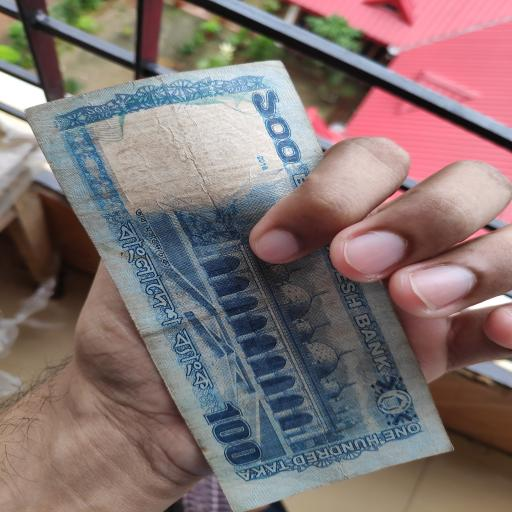100taka: (20, 59, 455, 512)
